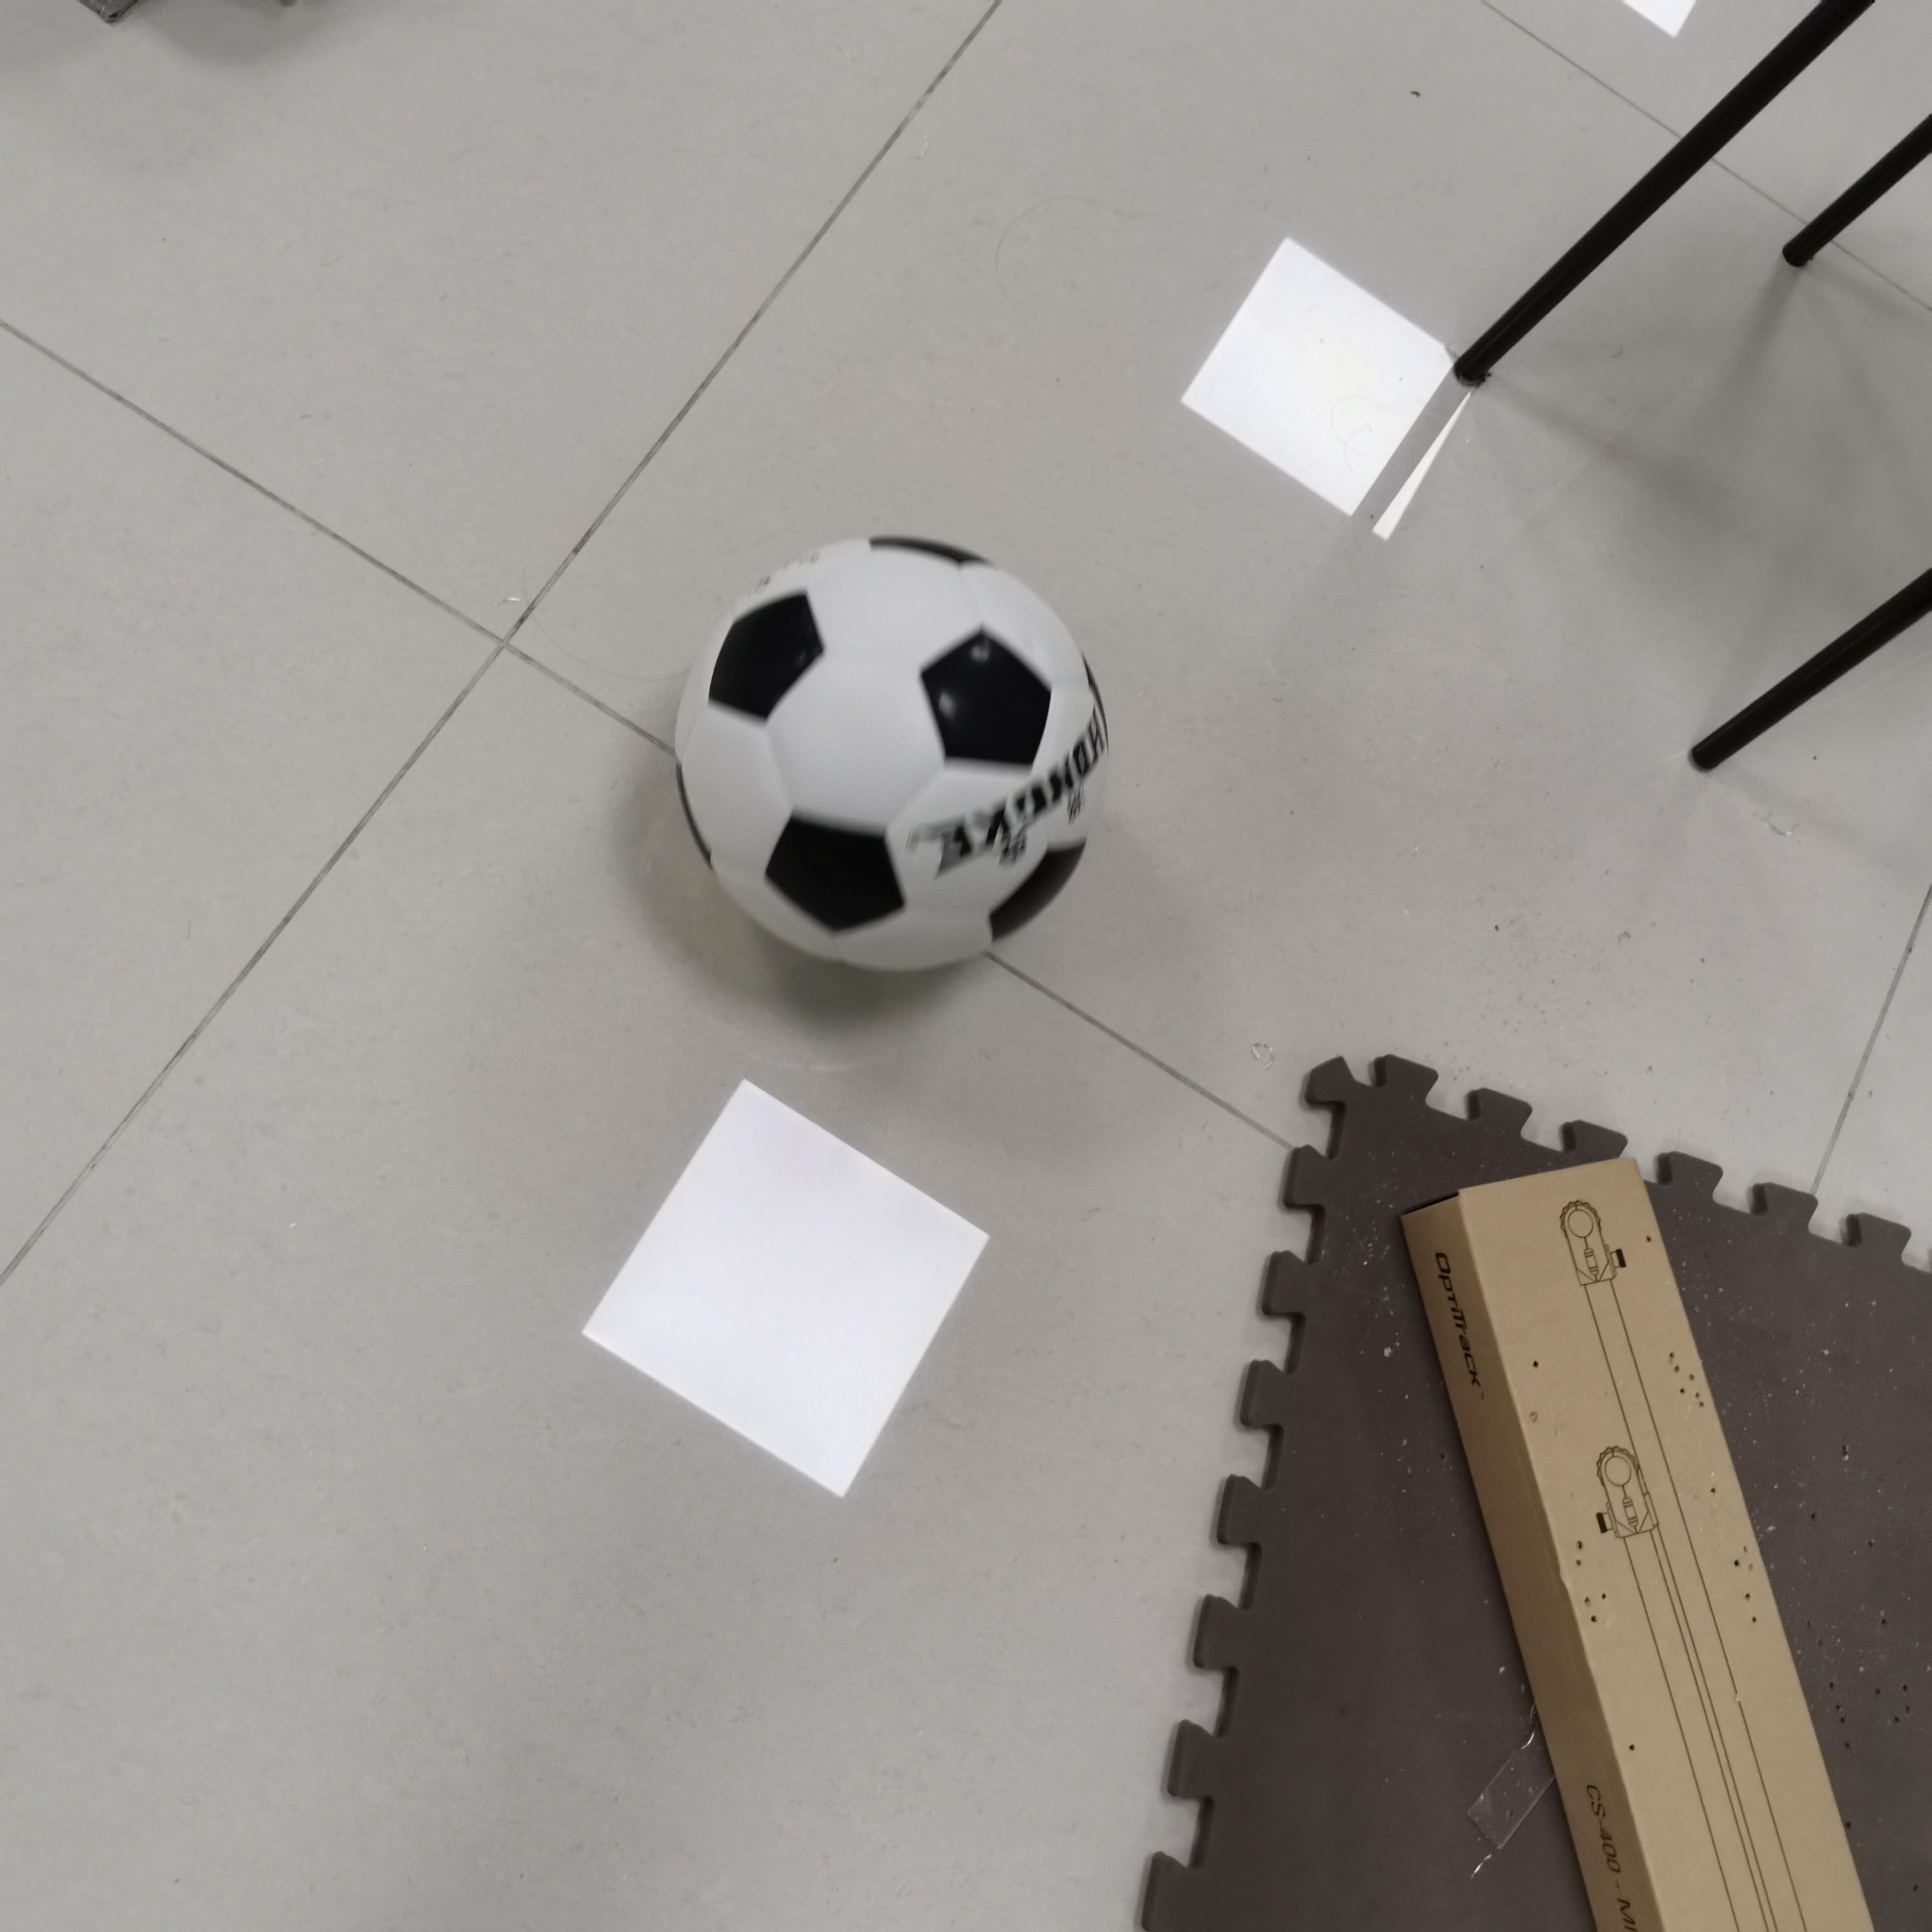football: (667, 543, 1113, 975)
